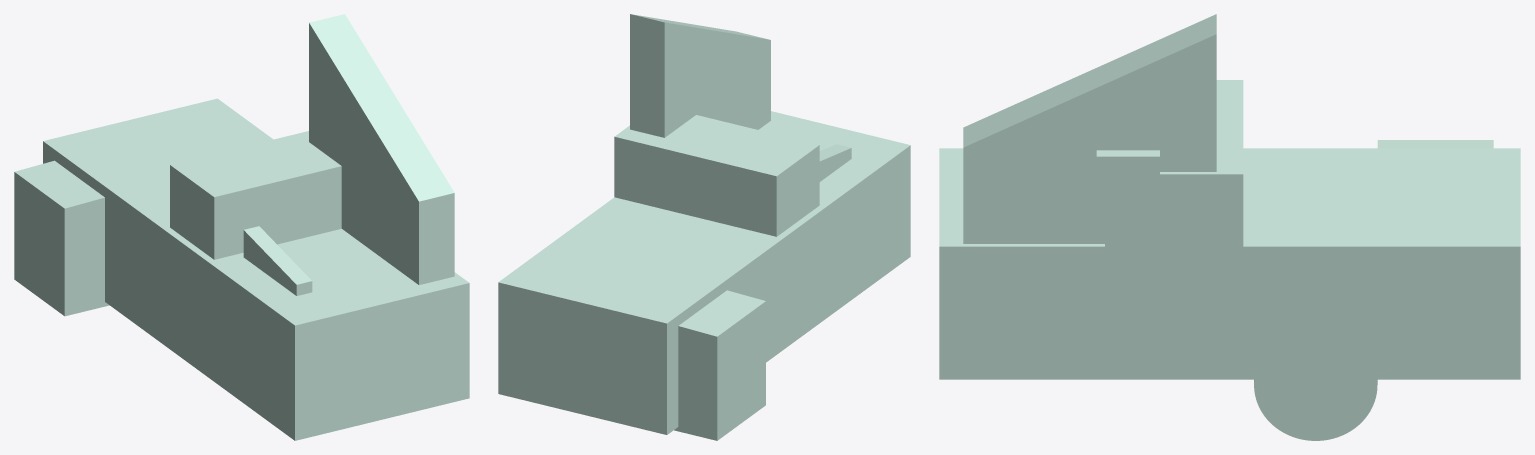
The picture shows the model from 3 angles, left to right: view 1: azimuth 30°, elevation 25°; view 2: azimuth 150°, elevation 25°; view 3: azimuth 270°, elevation 25°; orthographic projection. The views are drawn at different scales.
Visible parts, largest first — view 1: Renderer Node; view 2: Renderer Node; view 3: Renderer Node.
Part boxes in pixels (x1,y1,x2,y2): Renderer Node: (14,14,469,440); Renderer Node: (498,14,910,440); Renderer Node: (939,14,1520,440).
Size of the model in its own units: 0.7734 by 1.17 by 1.52.
